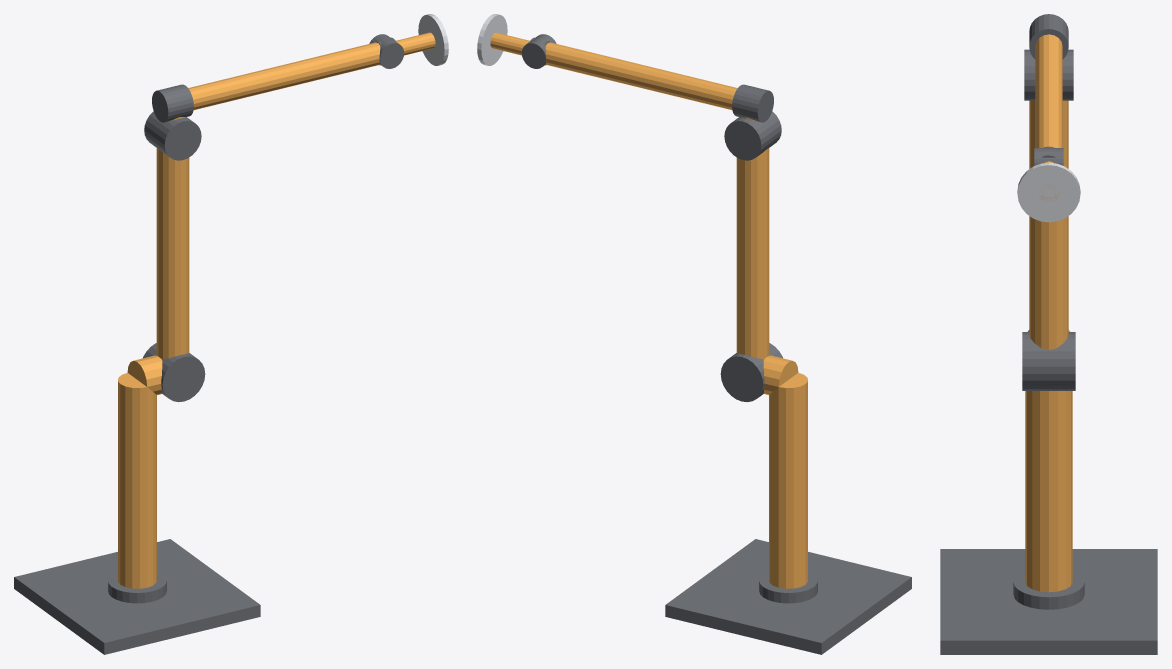
The model's file is arm.glb.
3 renders of one model, left to right at view 1: azimuth 30°, elevation 25°; view 2: azimuth 150°, elevation 25°; view 3: azimuth 270°, elevation 25°, orthographic. The views are drawn at different scales.
Visible parts, largest first — view 1: arm_plate, arm_link1_0, arm_link2_1, arm_link4_0, arm_j3_housing, arm_j2_housing, arm_j4_housing, arm_j1_housing, arm_flange_disc, arm_link1_1, arm_j5_housing; view 2: arm_plate, arm_link1_0, arm_link2_1, arm_link4_0, arm_j3_housing, arm_j2_housing, arm_j4_housing, arm_j1_housing, arm_flange_disc, arm_link1_1, arm_j5_housing; view 3: arm_plate, arm_link1_0, arm_link2_1, arm_link4_0, arm_flange_disc, arm_j2_housing, arm_j1_housing, arm_j3_housing, arm_j4_housing, arm_j5_housing.
Part boxes in pixels (left/top/right/bottom): arm_plate: left=14, top=539, right=260, bottom=654; arm_link1_0: left=118, top=372, right=156, bottom=588; arm_link2_1: left=156, top=148, right=189, bottom=359; arm_link4_0: left=188, top=42, right=380, bottom=109; arm_j3_housing: left=144, top=111, right=201, bottom=160; arm_j2_housing: left=143, top=343, right=205, bottom=402; arm_j4_housing: left=152, top=84, right=193, bottom=122; arm_j1_housing: left=108, top=571, right=166, bottom=603; arm_flange_disc: left=418, top=14, right=448, bottom=65; arm_link1_1: left=127, top=355, right=162, bottom=394; arm_j5_housing: left=369, top=34, right=404, bottom=68; arm_plate: left=665, top=539, right=911, bottom=654; arm_link1_0: left=769, top=372, right=807, bottom=588; arm_link2_1: left=736, top=148, right=769, bottom=359; arm_link4_0: left=545, top=42, right=737, bottom=109; arm_j3_housing: left=724, top=111, right=781, bottom=160; arm_j2_housing: left=720, top=343, right=782, bottom=402; arm_j4_housing: left=732, top=84, right=773, bottom=122; arm_j1_housing: left=759, top=571, right=817, bottom=603; arm_flange_disc: left=477, top=14, right=507, bottom=65; arm_link1_1: left=763, top=355, right=798, bottom=394; arm_j5_housing: left=521, top=34, right=556, bottom=68; arm_plate: left=940, top=549, right=1157, bottom=654; arm_link1_0: left=1025, top=391, right=1072, bottom=592; arm_link2_1: left=1029, top=100, right=1068, bottom=349; arm_link4_0: left=1035, top=34, right=1062, bottom=147; arm_flange_disc: left=1017, top=162, right=1080, bottom=222; arm_j2_housing: left=1022, top=332, right=1075, bottom=390; arm_j1_housing: left=1013, top=571, right=1084, bottom=609; arm_j3_housing: left=1024, top=49, right=1073, bottom=100; arm_j4_housing: left=1029, top=14, right=1068, bottom=59; arm_j5_housing: left=1034, top=148, right=1063, bottom=165.
Bounding box in the file's own units: 0.53 × 0.722 × 0.22.
